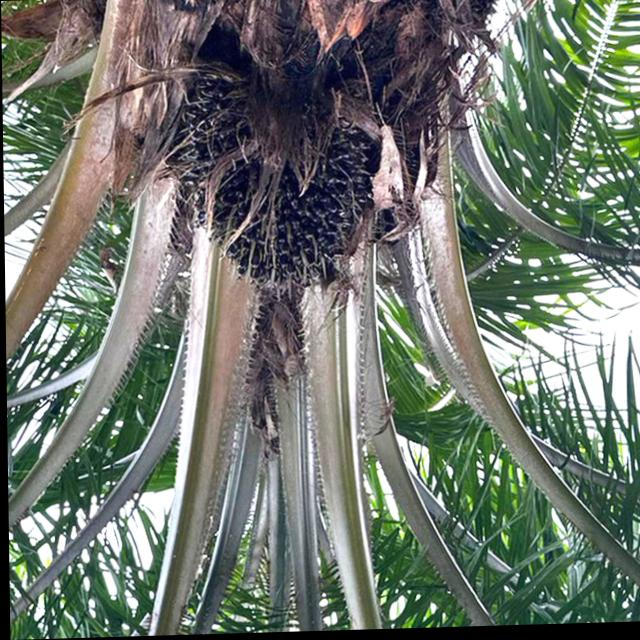unripe: (153, 87, 391, 306)
